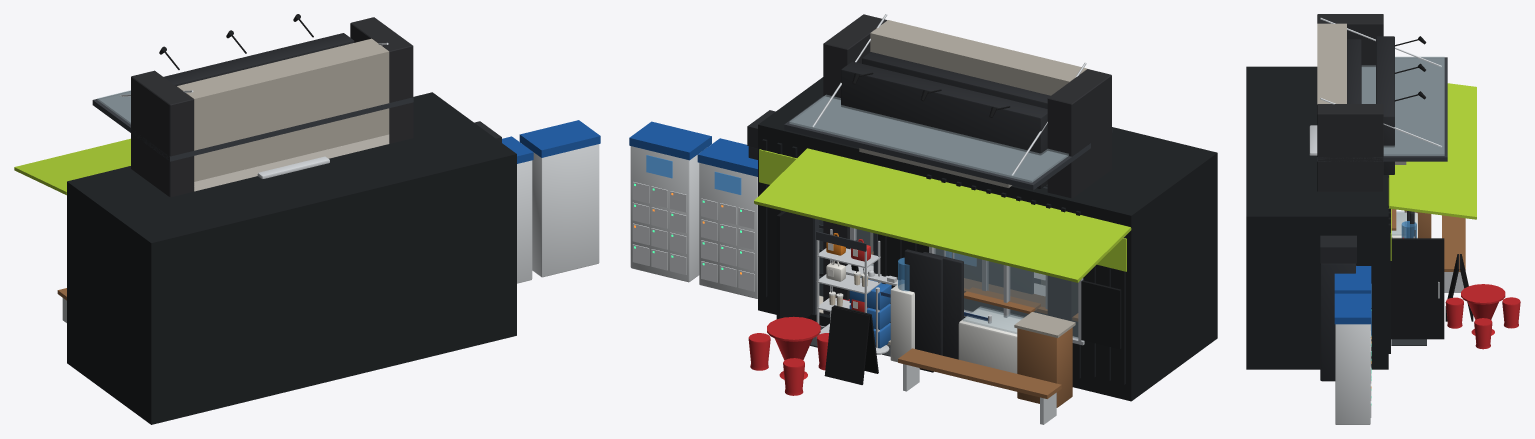
Rendered from gz_shopkit.glb.
3 views of the same model, side by side, from view 1: azimuth 30°, elevation 25°; view 2: azimuth 150°, elevation 25°; view 3: azimuth 270°, elevation 25° (orthographic). The views are drawn at different scales.
Visible parts, largest first — view 1: kit_station, kit_shop_mall, kit_shop_restaurant, kit_lobby, kit_shop_convenience, kit_bus_sign; view 2: kit_station, kit_shop_restaurant, kit_lobby, kit_shop_mall, kit_shop_convenience, kit_shop_tea, kit_shop_shop, kit_door_unit; view 3: kit_station, kit_lobby, kit_shop_restaurant, kit_shop_mall, kit_shop_convenience, kit_shop_tea, kit_bus_sign.
Part boxes in pixels (box(x1,y1,x2,y2)): kit_station: box(14, 92, 600, 424); kit_shop_mall: box(150, 32, 413, 197); kit_shop_restaurant: box(131, 15, 411, 196); kit_lobby: box(92, 42, 501, 161); kit_shop_convenience: box(160, 14, 354, 85); kit_bus_sign: box(257, 156, 329, 178); kit_station: box(629, 77, 1217, 424); kit_shop_restaurant: box(816, 14, 1111, 358); kit_lobby: box(747, 14, 1112, 407); kit_shop_mall: box(843, 14, 1111, 295); kit_shop_convenience: box(841, 61, 1047, 373); kit_shop_tea: box(816, 69, 1047, 372); kit_shop_shop: box(846, 186, 1047, 359); kit_door_unit: box(859, 148, 1011, 187); kit_station: box(1246, 66, 1520, 424); kit_lobby: box(1317, 18, 1473, 381); kit_shop_restaurant: box(1318, 14, 1425, 238); kit_shop_mall: box(1317, 14, 1361, 191); kit_shop_convenience: box(1376, 36, 1425, 238); kit_shop_tea: box(1376, 36, 1414, 238); kit_bus_sign: box(1309, 125, 1317, 155).
Size of the model in its own units: 8.24 by 4.41 by 4.63.
